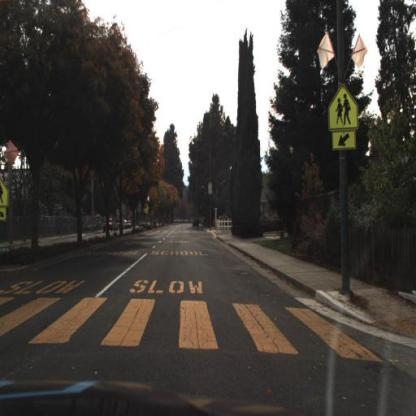car: (191, 217, 203, 234), (105, 219, 115, 232), (116, 219, 124, 233)
